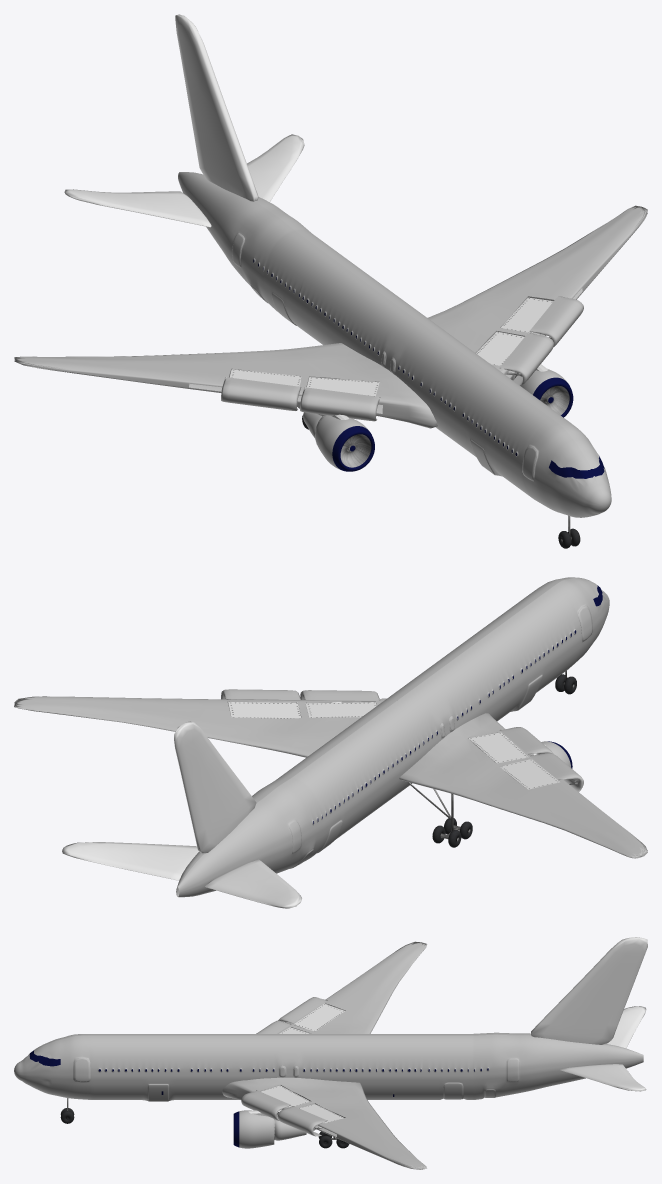
File: 767-300ver4.FBX
3 views of the same model, one above another, from view 1: azimuth 30°, elevation 25°; view 2: azimuth 150°, elevation 25°; view 3: azimuth 270°, elevation 25° (orthographic). The views are drawn at different scales.
Visible parts, largest first — view 1: FUSELAGE001, Right Wing, Right Wing001, Rudder, Right Engine, Right Elevator, Lift Elevator, Tube010, Tube007, Lift Engine, Tube013, Tube016 (+3 smaller); view 2: FUSELAGE001, Right Wing, Right Wing001, Rudder, Lift Elevator, Right Elevator, Landing Gear, Box006, Box004, Box003, Box007, Tube013 (+3 smaller); view 3: FUSELAGE001, Rudder, Right Wing001, Right Wing, Lift Engine, Lift Elevator, Right Elevator, Tube016, Tube013, Box003, Tube010, Box007 (+2 smaller).
Boxes of the visible parts, x1,y1,x2,y2 form: FUSELAGE001: (178,172,611,517); Right Wing: (14,343,437,428); Right Wing001: (428,205,647,378); Rudder: (175,14,258,201); Right Engine: (303,412,374,471); Right Elevator: (64,189,211,227); Lift Elevator: (247,134,304,202); Tube010: (221,377,301,410); Tube007: (300,387,380,421); Lift Engine: (511,369,573,417); Tube013: (500,332,553,385); Tube016: (529,296,583,346); FUSELAGE001: (176,577,609,897); Right Wing: (399,713,647,858); Right Wing001: (14,696,386,757); Rudder: (174,721,256,854); Lift Elevator: (62,842,198,880); Right Elevator: (205,859,301,908); Landing Gear: (408,670,576,847); Box006: (228,702,301,718); Box004: (468,732,528,763); Box003: (500,759,559,789); Box007: (305,702,376,717); Tube013: (300,690,380,703); FUSELAGE001: (14,1032,643,1101); Rudder: (531,937,647,1044); Right Wing001: (222,1077,426,1169); Right Wing: (277,941,426,1033); Lift Engine: (233,1110,306,1148); Lift Elevator: (560,1064,646,1091); Right Elevator: (607,1006,646,1048); Tube016: (277,1106,327,1136); Tube013: (241,1090,290,1120); Box003: (293,1003,345,1031); Tube010: (278,997,327,1027); Box007: (260,1085,310,1106).
Size of the model in its own units: 410 by 155 by 483.
Materials: 6 (2 with a texture image).
